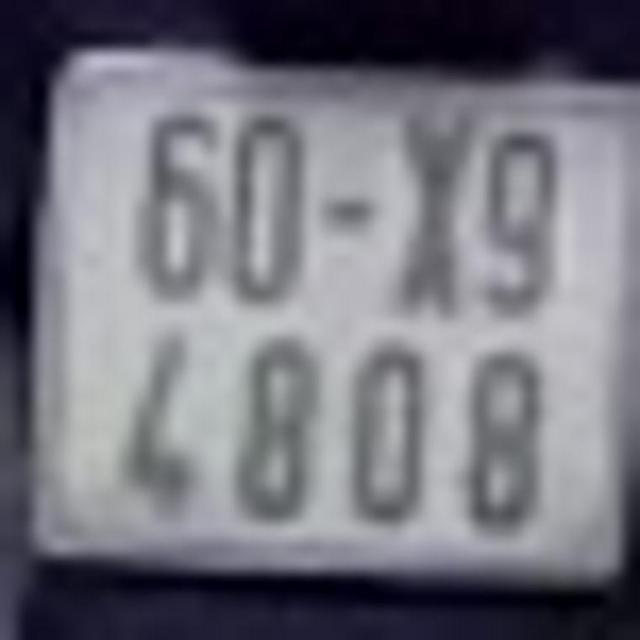0: (354, 338, 426, 540), (231, 112, 301, 306)
4: (125, 328, 196, 523)
6: (141, 112, 219, 299)
8: (233, 331, 311, 528), (466, 344, 544, 539)
9: (486, 127, 557, 323)
X: (394, 108, 474, 324)
